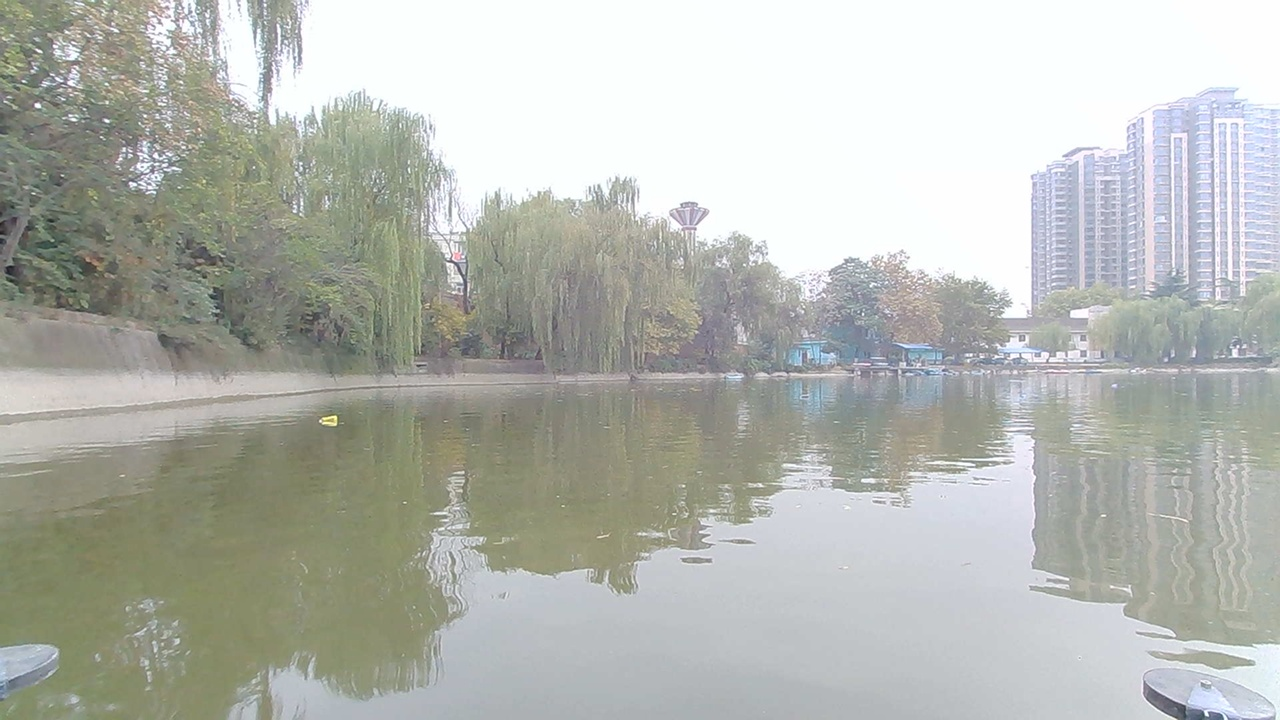bottle: (314, 409, 348, 432), (789, 388, 818, 403)
